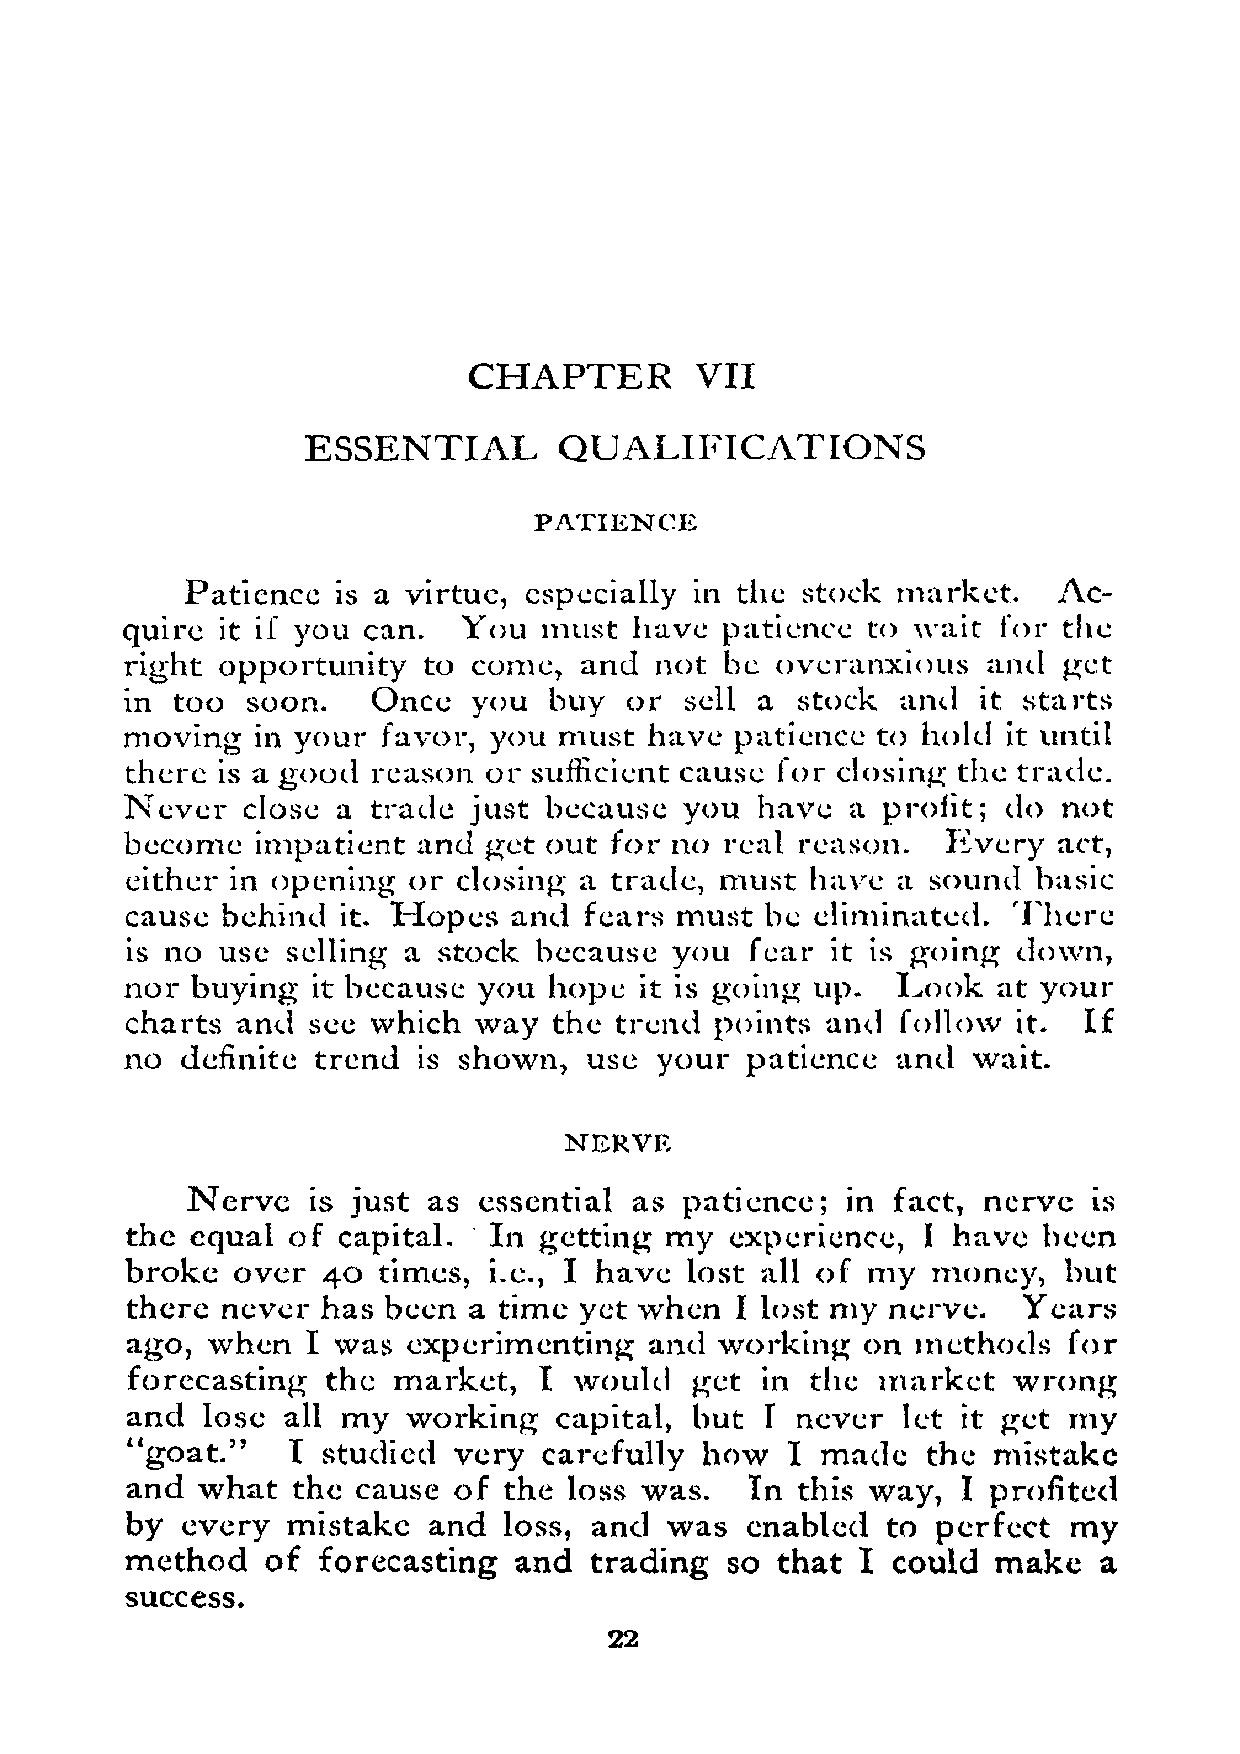chapter: (301, 360, 927, 464), (527, 509, 699, 533), (557, 1125, 671, 1154)
content: (118, 574, 1114, 1082), (123, 1182, 1121, 1616)
content_pagenumber: (605, 1625, 641, 1651)
